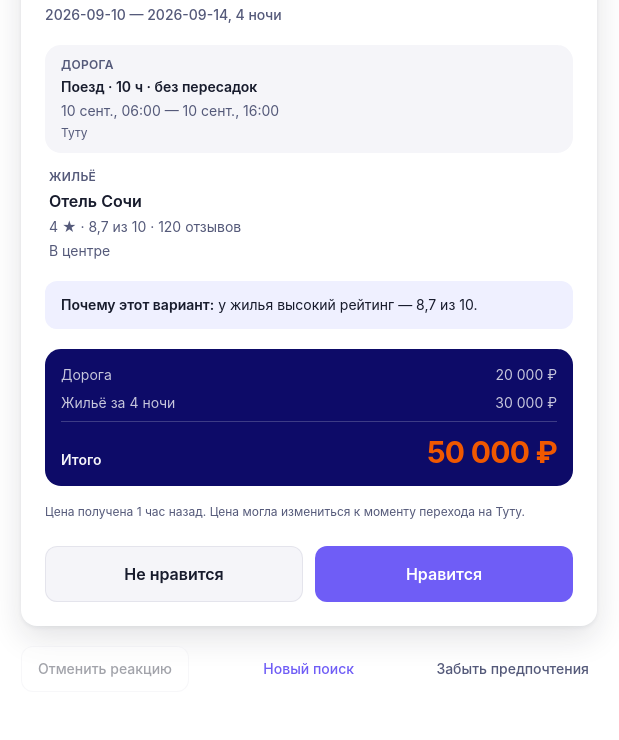
swipe feed › AC11: reconnects with received event IDs and does not duplicate cards
(page scrolled)
Step 1. Click the button "Нравится" → (444, 574), box top-left (315, 546), bottom-right (573, 602)
(page scrolled)
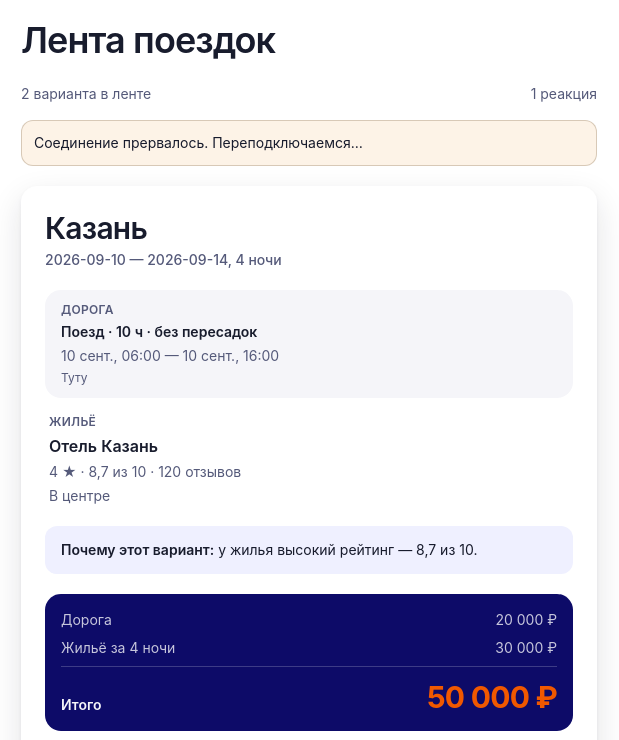
Check: the heading "Казань" is shown, box top-left (45, 210), bottom-right (147, 246)
